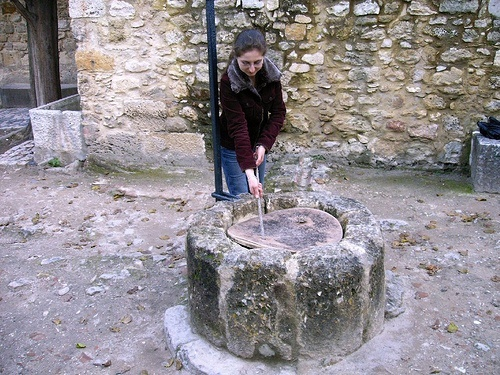head: (234, 28, 268, 78)
person: (215, 31, 284, 196)
